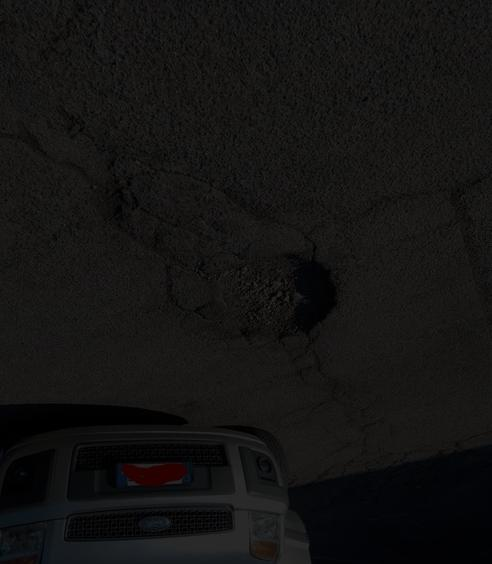pothole: (216, 241, 345, 358)
